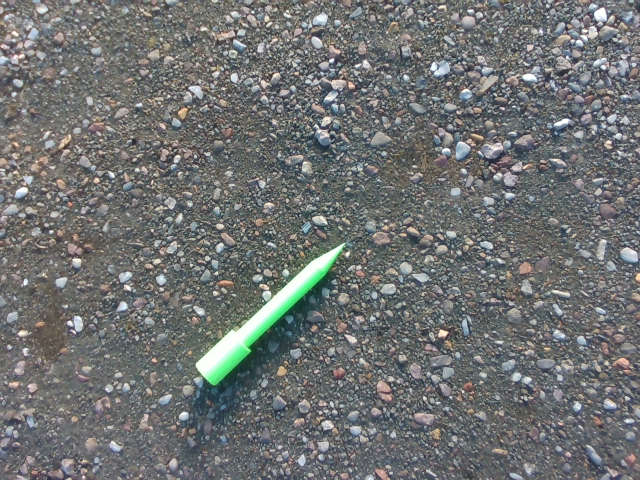Probe: (190, 233, 353, 391)
